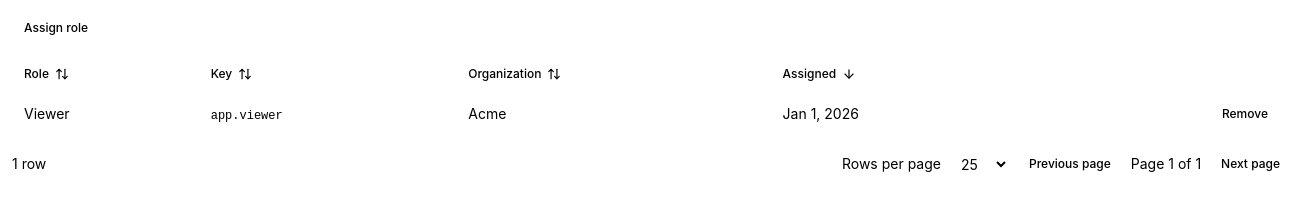
Test: UserRolesPanel › still shows the generic error for any OTHER failure
Click the button "Remove". click: coordinates (1245, 114)
box: [1210,98,1280,130]
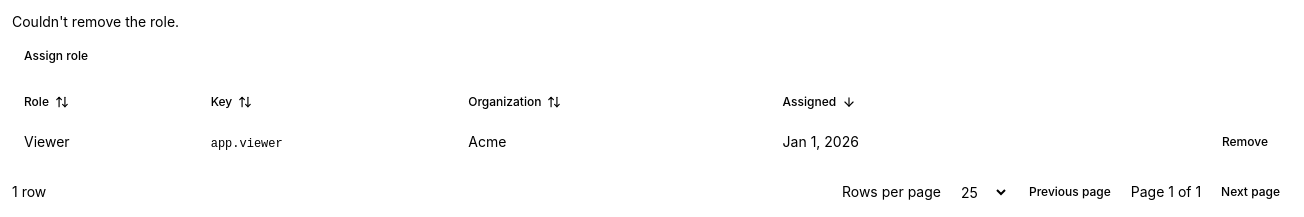
Result: the text "Couldn't remove the role." is shown at [12,13,179,30]
